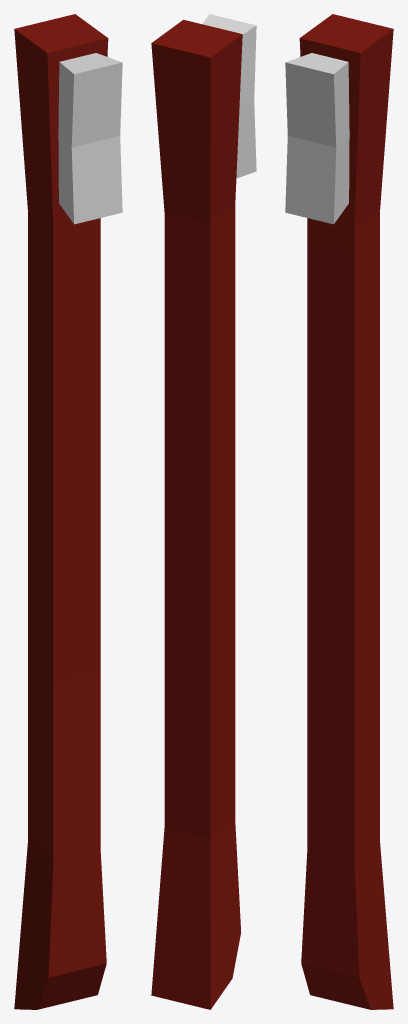
File: toothbrush.glb
The picture shows the model from 3 angles, left to right: view 1: azimuth 30°, elevation 25°; view 2: azimuth 150°, elevation 25°; view 3: azimuth 330°, elevation 25°; orthographic projection. The views are drawn at different scales.
Parts seen in each view (by area): view 1: Toothbrush; view 2: Toothbrush; view 3: Toothbrush.
Part boxes in pixels (left/top/right/bottom): Toothbrush: left=14, top=14, right=122, bottom=1009; Toothbrush: left=151, top=14, right=256, bottom=1009; Toothbrush: left=285, top=14, right=393, bottom=1009.
Bounding box in the file's own units: 0.0117 × 0.1793 × 0.0178.
Materials: 1 (1 with a texture image).
